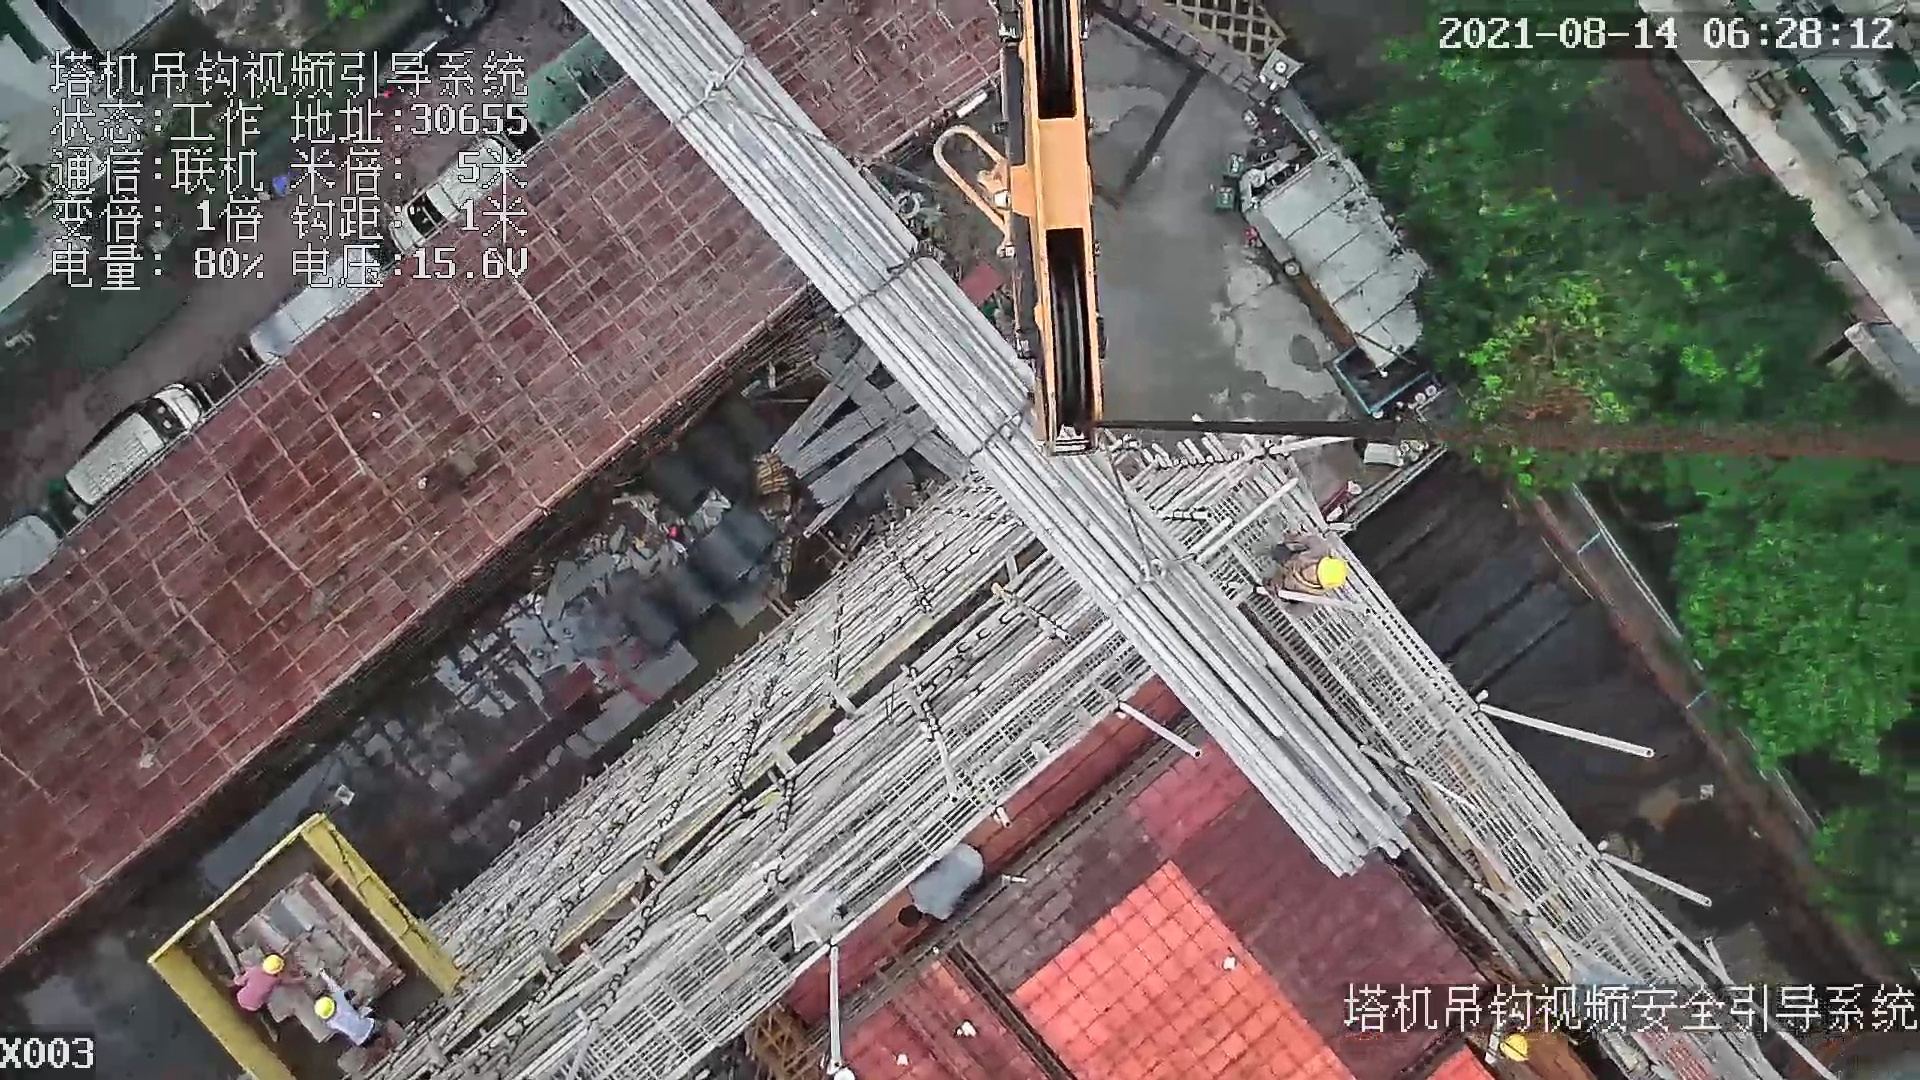helmet: (1313, 550, 1347, 596), (311, 991, 336, 1025), (259, 951, 286, 975)
person: (1263, 530, 1347, 621), (317, 969, 392, 1051), (226, 953, 305, 1008)
